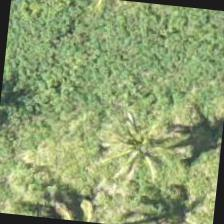Kelapa_Sawit: (89, 86, 188, 186)
